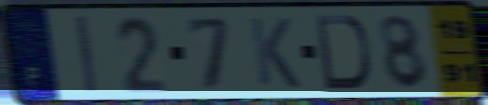2: (113, 13, 173, 94)
7: (185, 15, 235, 91)
8: (378, 12, 432, 91)
D: (314, 13, 374, 92)
I: (73, 14, 100, 95)
K: (246, 15, 303, 91)
